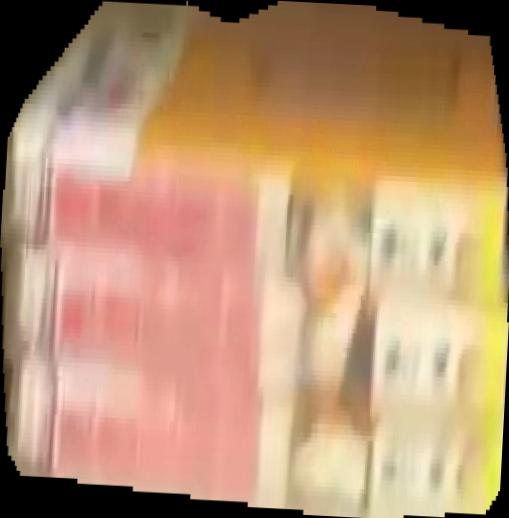flat: (1, 1, 509, 518)
